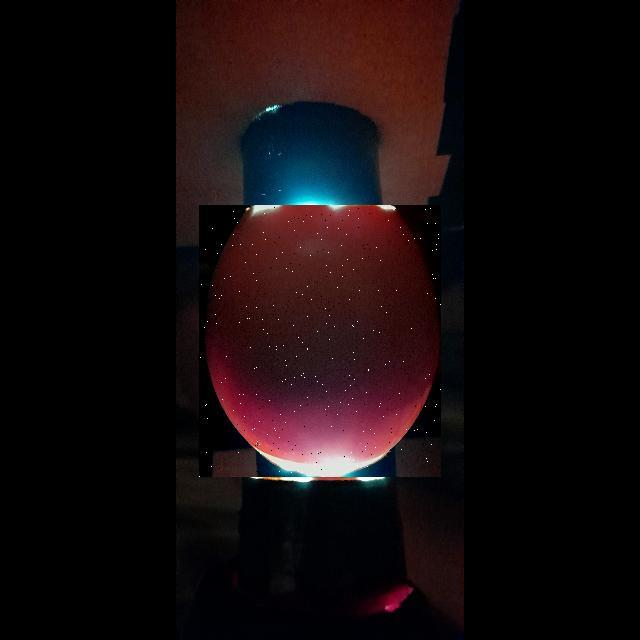Fertile: (199, 205, 441, 477)
